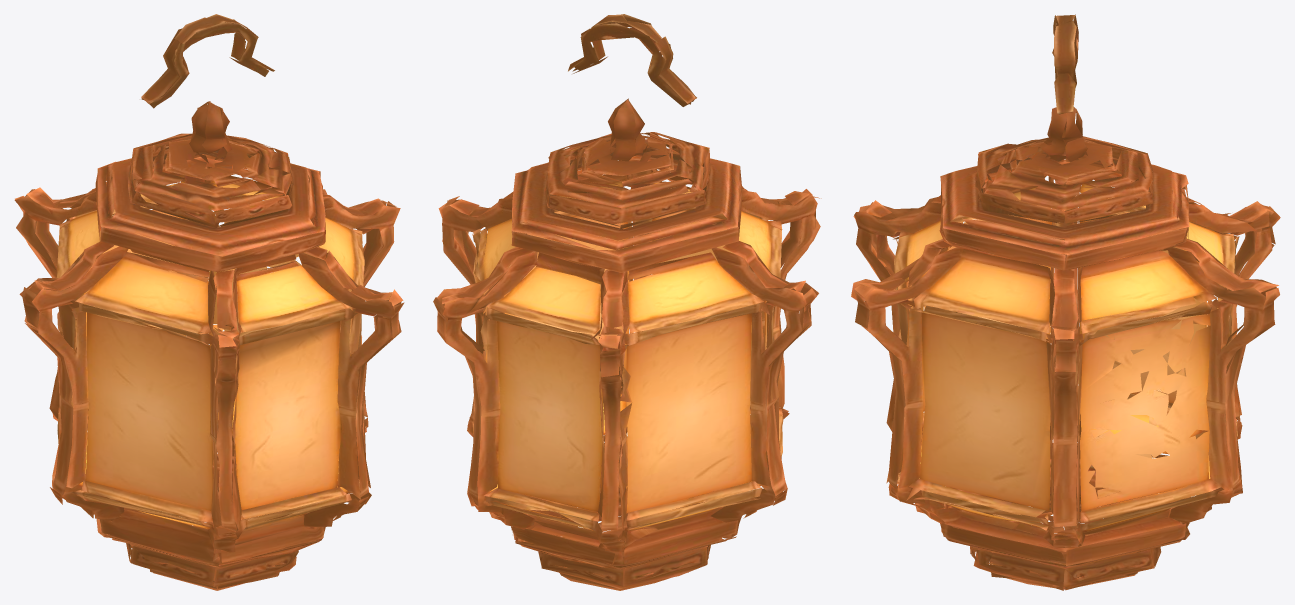
File: craft_engraving_lantern.glb
The picture shows the model from 3 angles, left to right: view 1: azimuth 30°, elevation 25°; view 2: azimuth 150°, elevation 25°; view 3: azimuth 270°, elevation 25°; orthographic projection.
Parts seen in each view (by area): view 1: CRAFT_EngravingLantern; view 2: CRAFT_EngravingLantern; view 3: CRAFT_EngravingLantern.
Boxes of the visible parts, left/top/right/bottom form: CRAFT_EngravingLantern: left=14, top=14, right=404, bottom=590; CRAFT_EngravingLantern: left=433, top=14, right=821, bottom=590; CRAFT_EngravingLantern: left=851, top=14, right=1280, bottom=590.
Size of the model in its own units: 0.36 by 0.5 by 0.36.
Materials: 1 (1 with a texture image).
